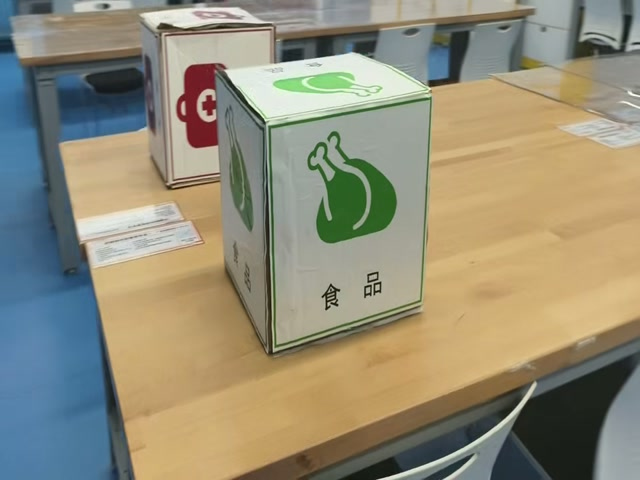Cube_food: (216, 46, 431, 126)
Cube_medicine: (137, 3, 269, 34)
